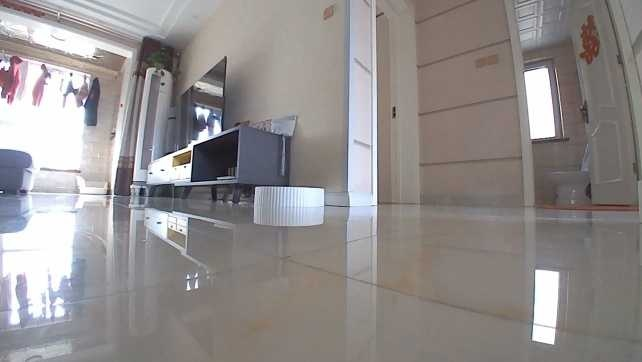TV_stand: (144, 121, 291, 205)
door_anno: (569, 0, 641, 205)
toilet: (549, 141, 594, 205)
